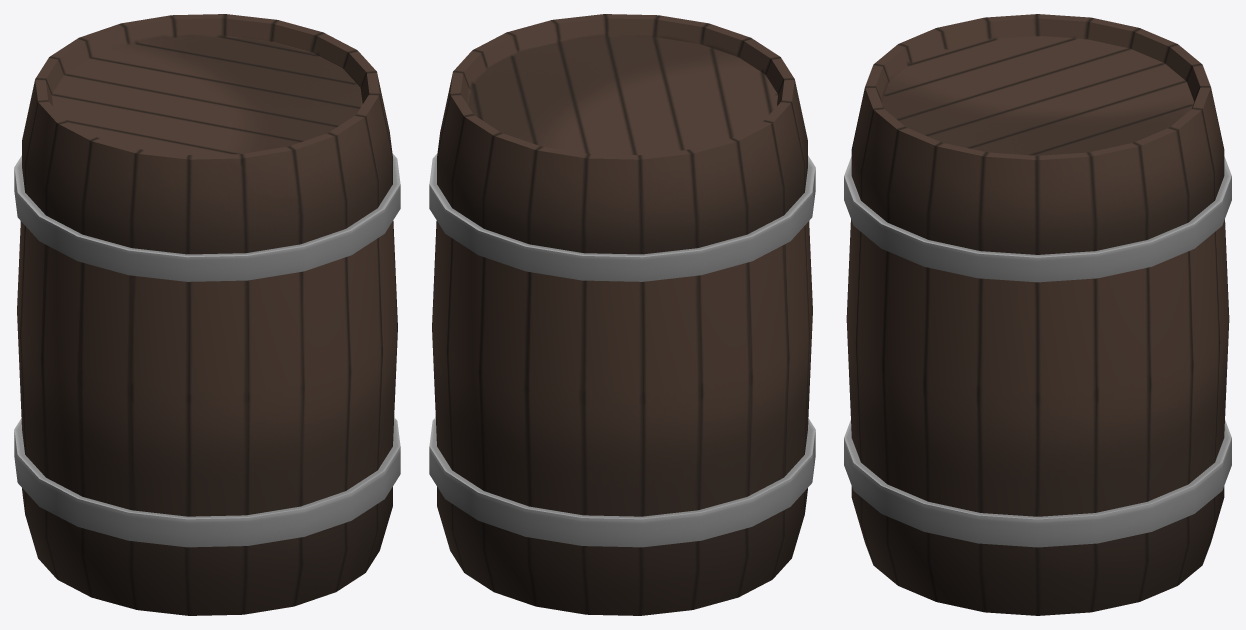
Rendered from Barrel.fbx.
3 views of the same model, side by side, from view 1: azimuth 30°, elevation 25°; view 2: azimuth 150°, elevation 25°; view 3: azimuth 270°, elevation 25° (orthographic).
Parts seen in each view (by area): view 1: pCylinder1; view 2: pCylinder1; view 3: pCylinder1.
Boxes of the visible parts, bbox=[...] form: pCylinder1: bbox=[14, 14, 400, 615]; pCylinder1: bbox=[429, 14, 815, 615]; pCylinder1: bbox=[844, 14, 1231, 615].
Bounding box in the file's own units: 0.1078 × 0.1398 × 0.1078.
Materials: 1 (1 with a texture image).
